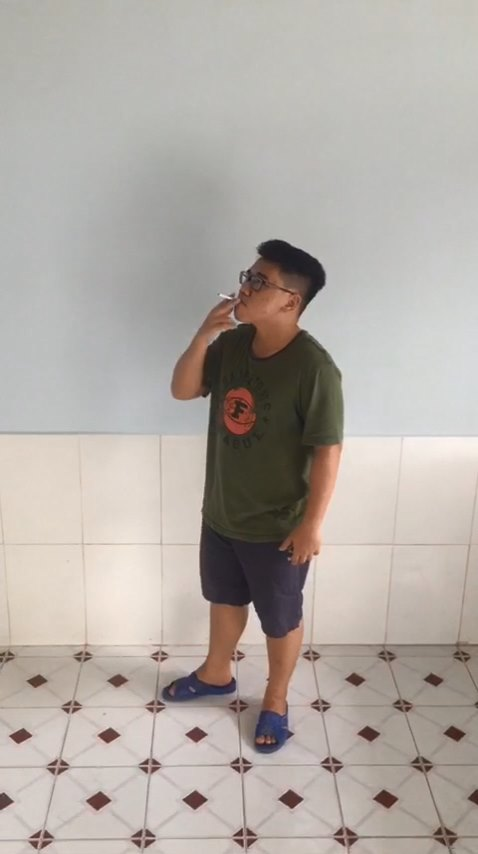cigarette: (217, 288, 244, 309)
person: (159, 218, 359, 760)
